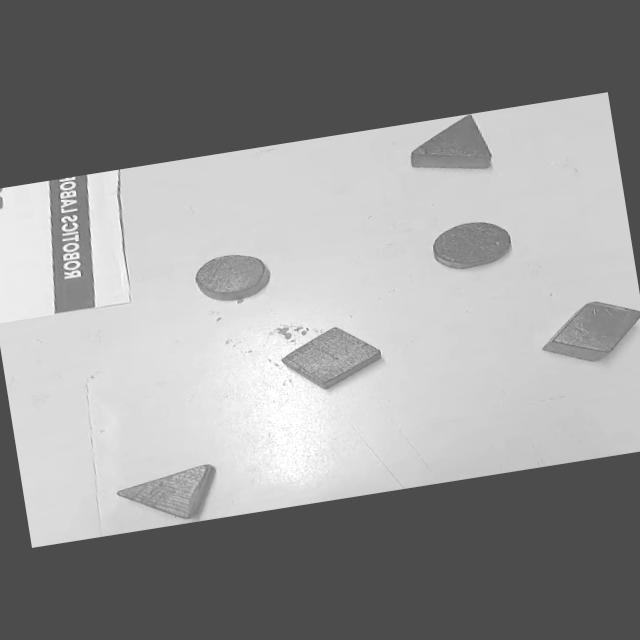bcircle: (426, 217, 514, 274)
bcube: (274, 318, 389, 398)
btriangle: (402, 111, 498, 182)
rcircle: (190, 248, 274, 306)
rcube: (533, 294, 640, 371)
rtriangle: (114, 462, 222, 530)
